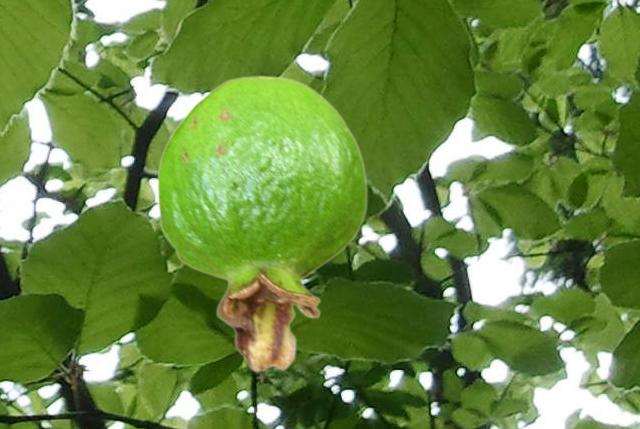guava: (156, 74, 367, 372)
